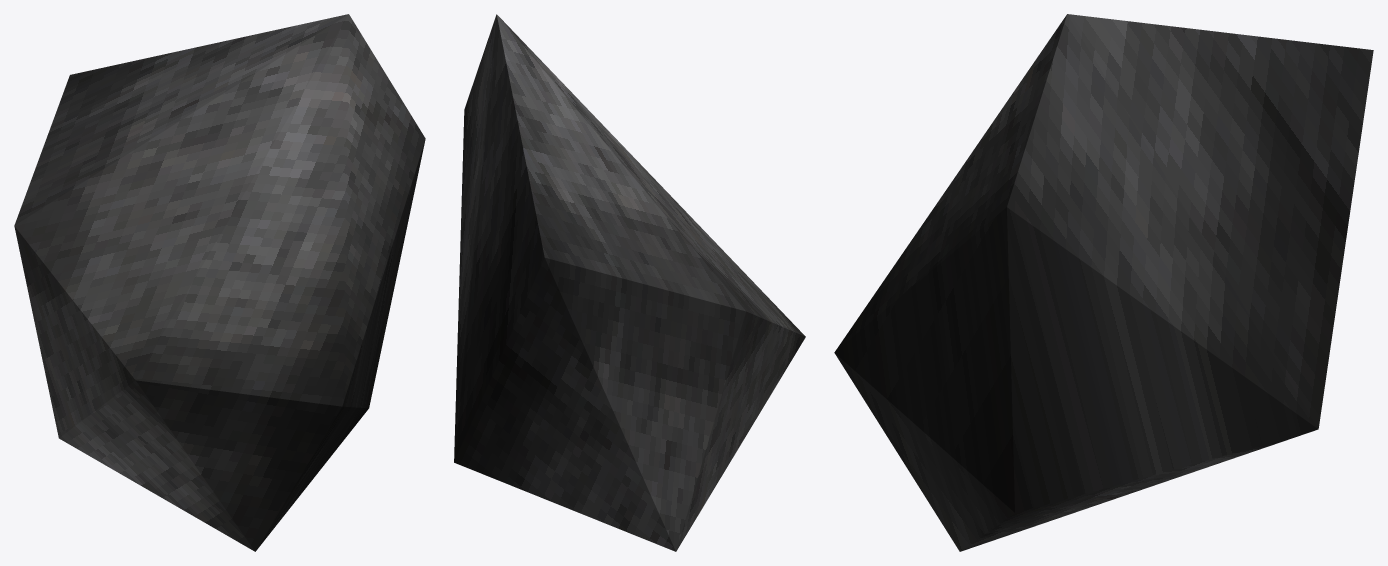
File: stoneSmallV2.glb
3 renders of one model, left to right at view 1: azimuth 30°, elevation 25°; view 2: azimuth 150°, elevation 25°; view 3: azimuth 270°, elevation 25°, orthographic. The views are drawn at different scales.
Visible parts, largest first — view 1: Icosphere.001; view 2: Icosphere.001; view 3: Icosphere.001.
Boxes of the visible parts, box(x1,y1,x2,y2) form: Icosphere.001: box(14, 14, 425, 551); Icosphere.001: box(454, 14, 805, 551); Icosphere.001: box(834, 14, 1373, 551).
Size of the model in its own units: 1.79 by 2.39 by 1.87.
1 material, 1 textured.
